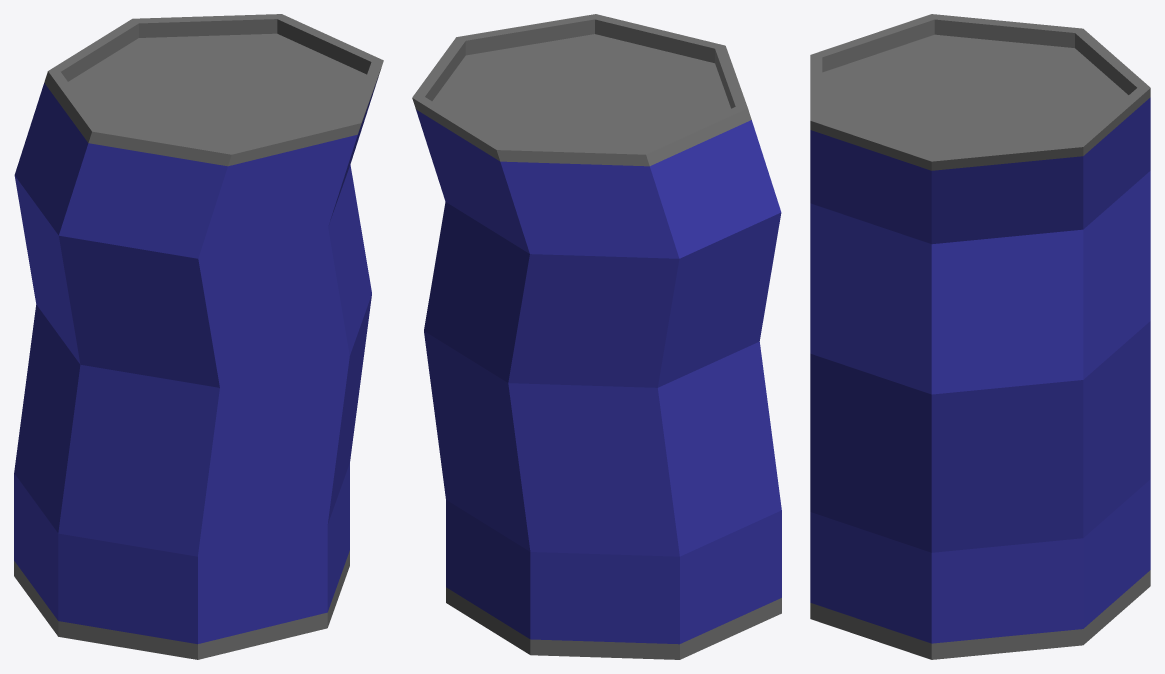
File: BlueCan001.fbx
3 views of the same model, side by side, from view 1: azimuth 30°, elevation 25°; view 2: azimuth 150°, elevation 25°; view 3: azimuth 270°, elevation 25° (orthographic). The views are drawn at different scales.
Parts seen in each view (by area): view 1: CanBlue001; view 2: CanBlue001; view 3: CanBlue001.
Boxes of the visible parts, <box> form: CanBlue001: <box>14,14,383,659</box>; CanBlue001: <box>412,14,781,659</box>; CanBlue001: <box>810,14,1150,659</box>.
Bounding box in the file's own units: 74.53 × 109 × 65.11.
